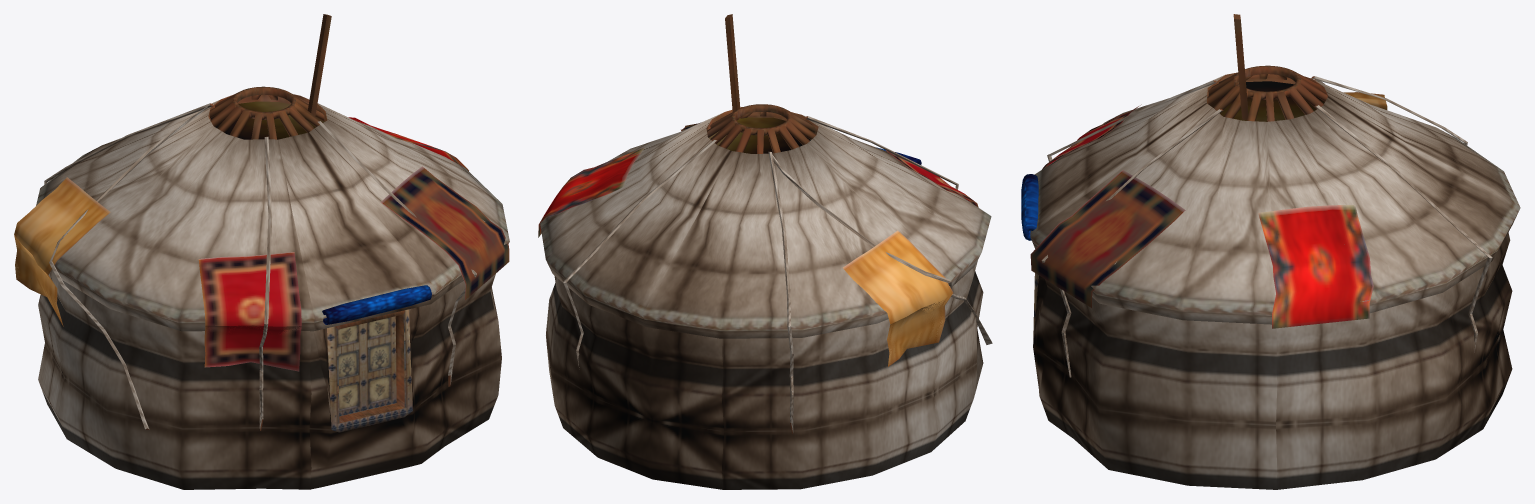
File: house_3.dae
The picture shows the model from 3 angles, left to right: view 1: azimuth 30°, elevation 25°; view 2: azimuth 150°, elevation 25°; view 3: azimuth 270°, elevation 25°; orthographic projection. The views are drawn at different scales.
Visible parts, largest first — view 1: house_3; view 2: house_3; view 3: house_3.
Part boxes in pixels (x1,y1,x2,y2): house_3: (14,14,509,489); house_3: (538,14,992,489); house_3: (1021,14,1520,489).
Size of the model in its own units: 10.87 by 10.78 by 9.62.
